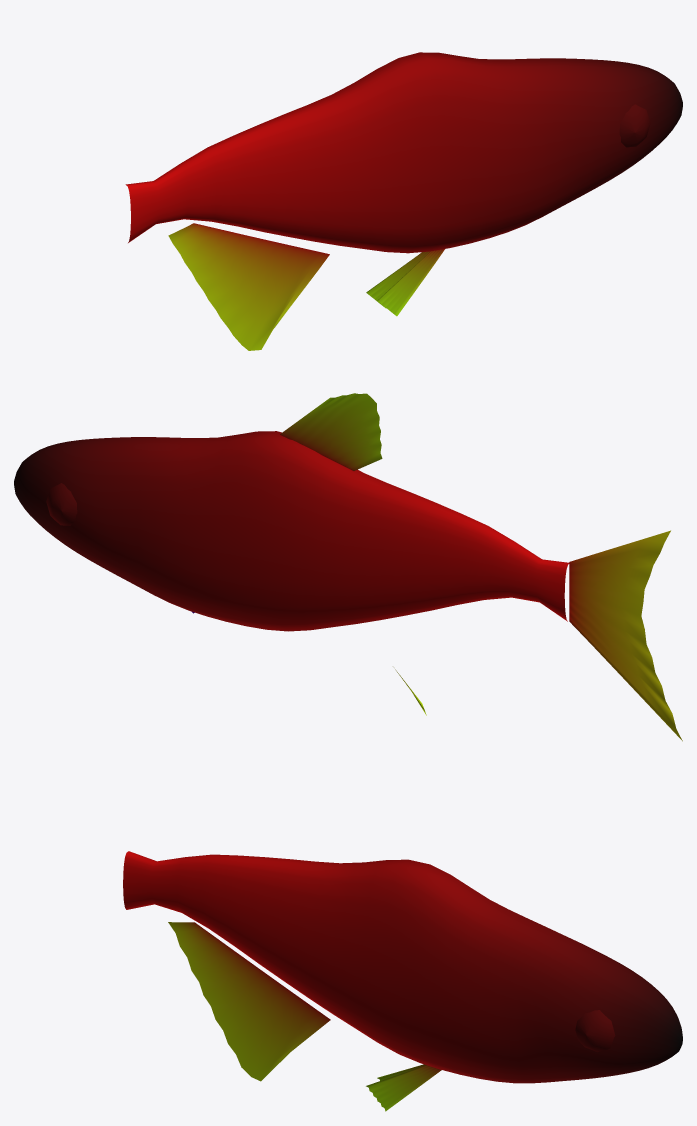
Rendered from cardinal_tetra_3.glb.
3 renders of one model, top to bottom at view 1: azimuth 30°, elevation 25°; view 2: azimuth 150°, elevation 25°; view 3: azimuth 330°, elevation 25°, orthographic.
Parts seen in each view (by area): view 1: body, eye; view 2: body, eye; view 3: body, eye.
Boxes of the visible parts, left/top/right/bottom form: body: left=125, top=52, right=682, bottom=350; eye: left=619, top=104, right=650, bottom=147; body: left=14, top=393, right=682, bottom=741; eye: left=46, top=483, right=77, bottom=525; body: left=123, top=851, right=682, bottom=1111; eye: left=575, top=1010, right=615, bottom=1052.
Bounding box in the file's own units: 0.0858 × 0.0389 × 0.0109.
